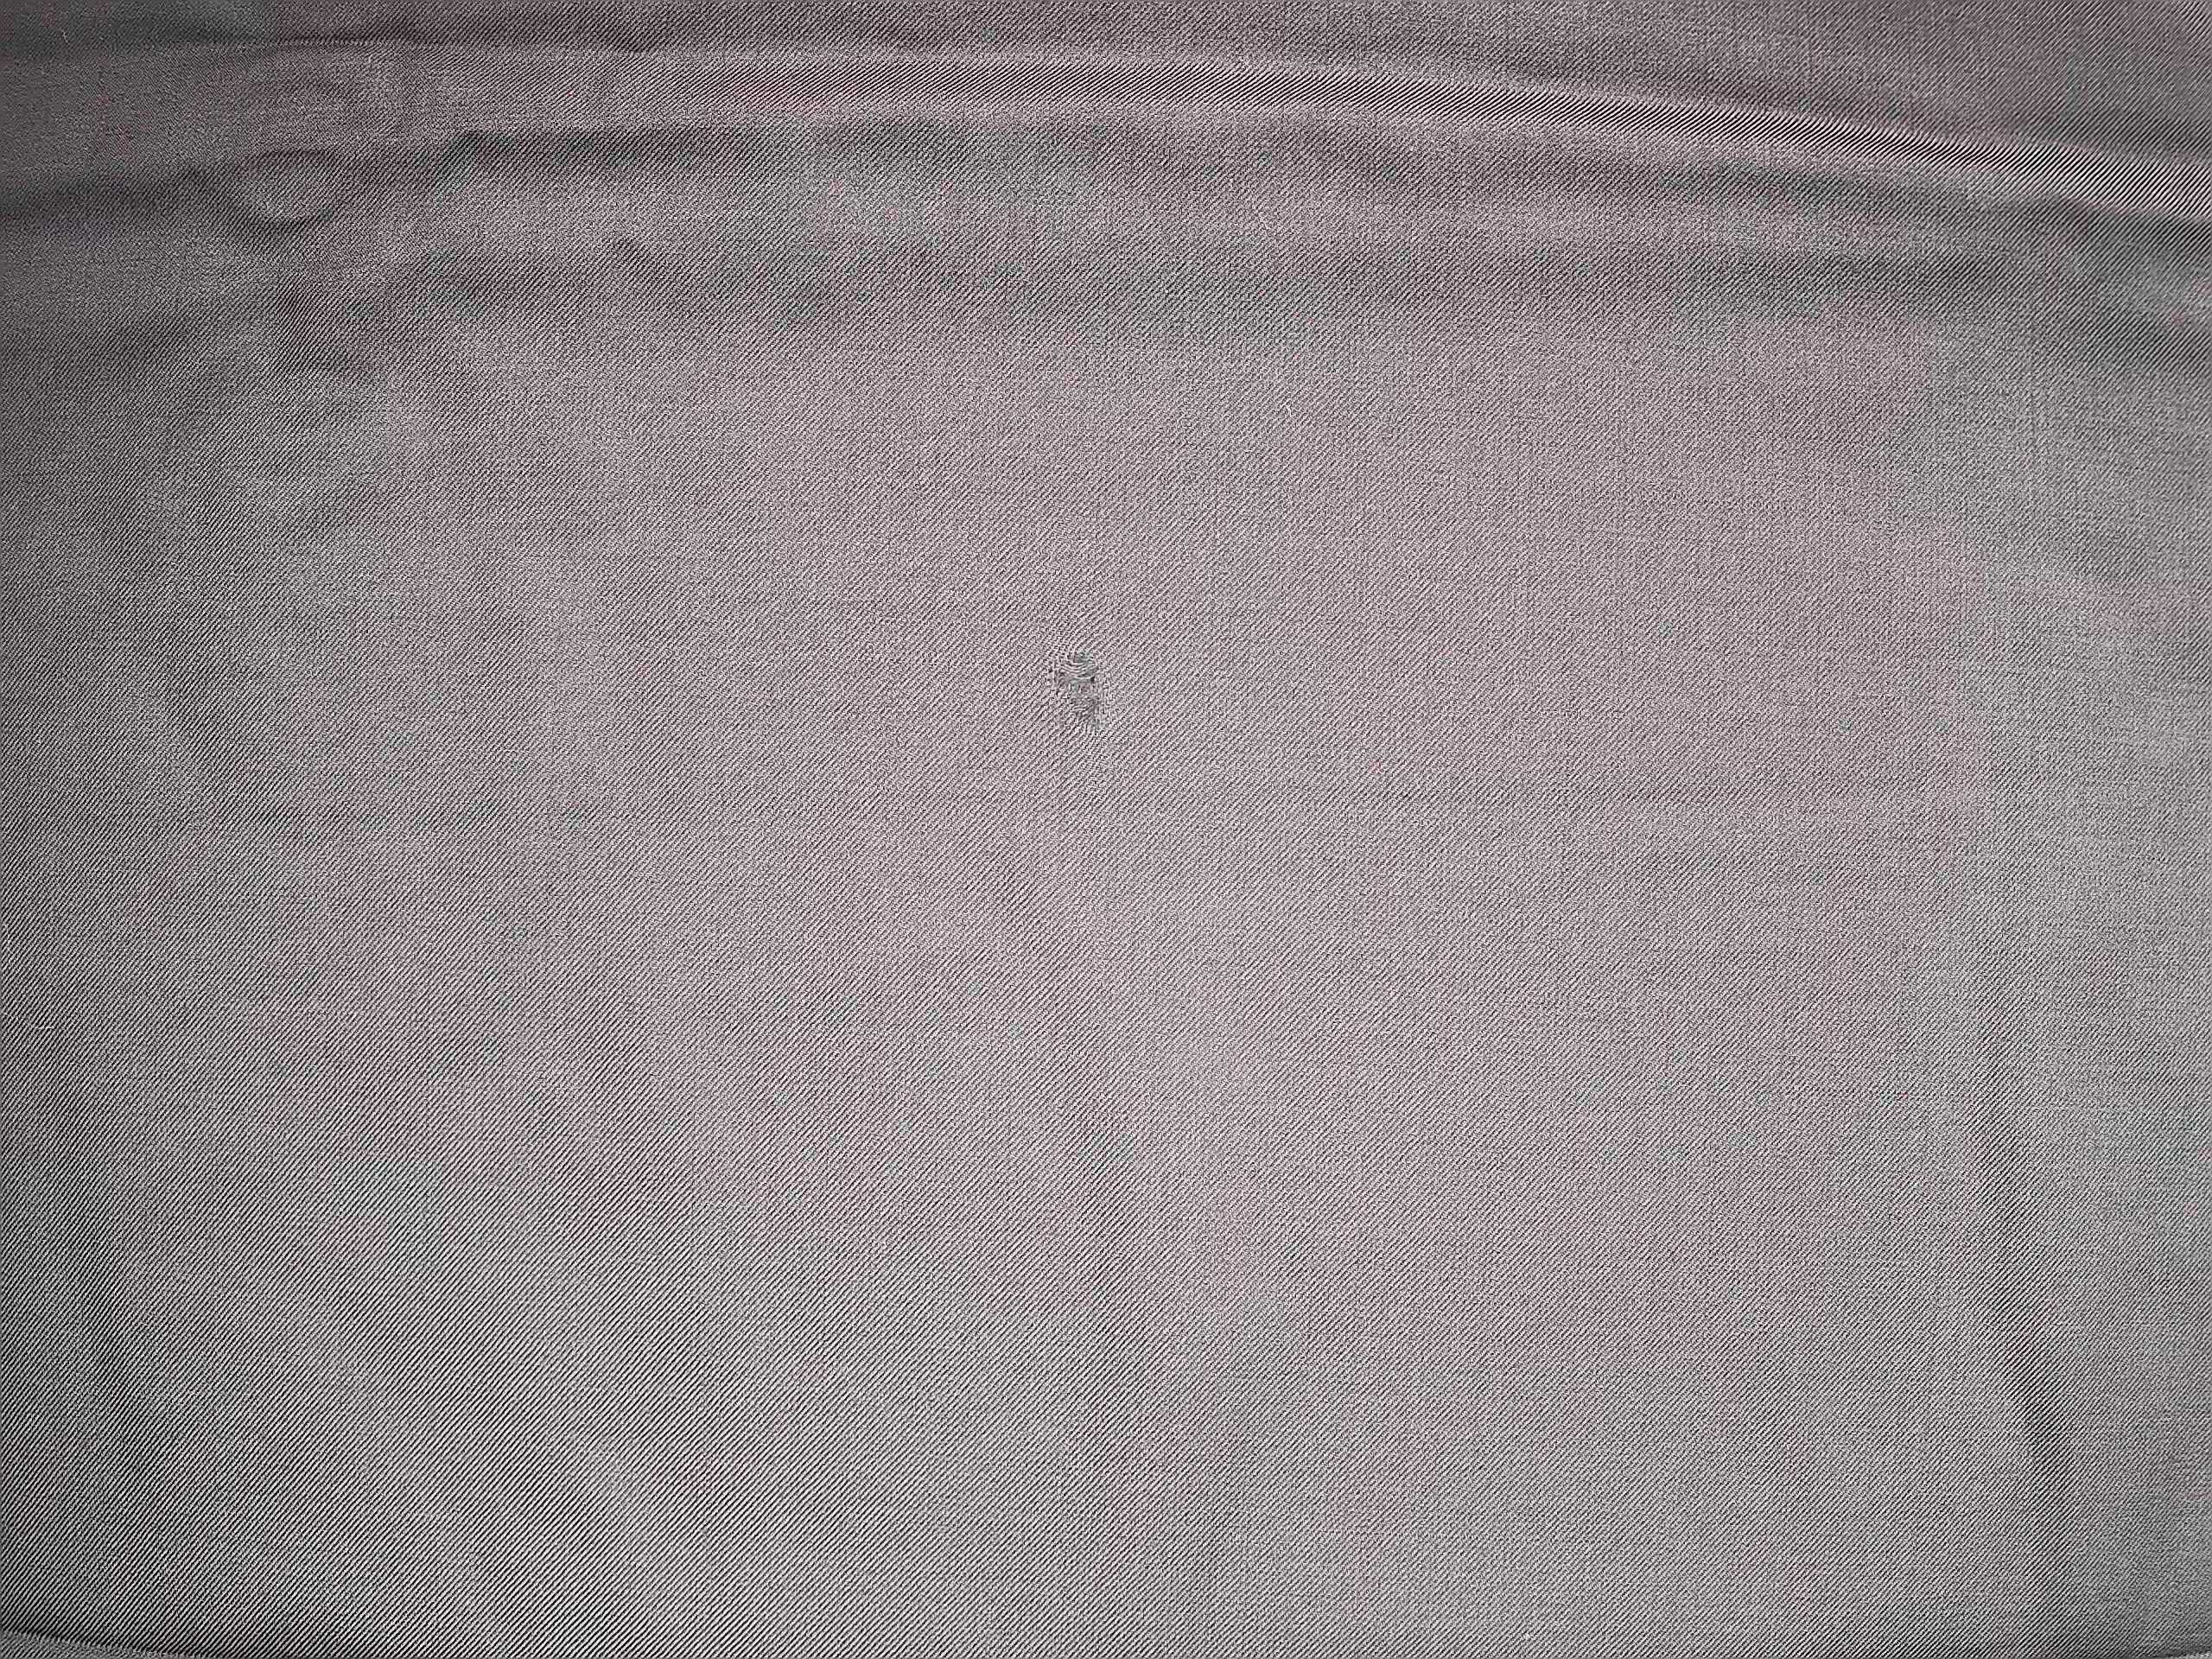rubbing-hole: (1021, 634, 1141, 748)
